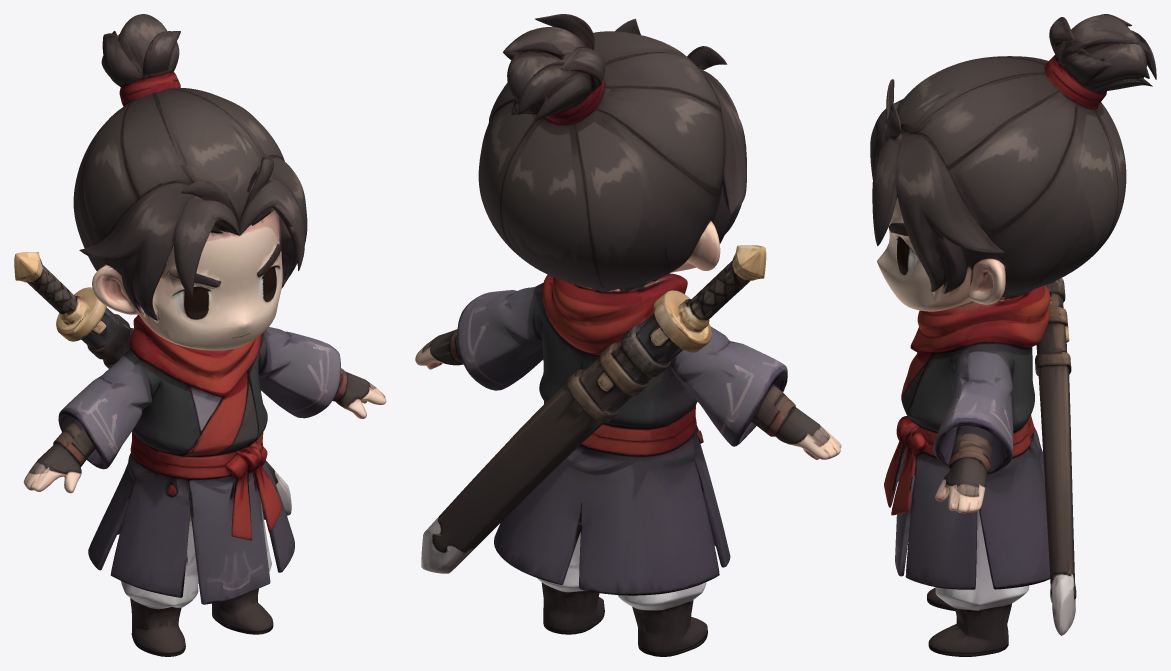
The model's file is tripo_convert_kiemhiep.glb.
3 renders of one model, left to right at view 1: azimuth 30°, elevation 25°; view 2: azimuth 150°, elevation 25°; view 3: azimuth 270°, elevation 25°, orthographic. The views are drawn at different scales.
Parts seen in each view (by area): view 1: tripo_node_9dc180d4-2a8c-46b8-aaf7-44141f36ad9f; view 2: tripo_node_9dc180d4-2a8c-46b8-aaf7-44141f36ad9f; view 3: tripo_node_9dc180d4-2a8c-46b8-aaf7-44141f36ad9f.
Boxes of the visible parts, x1,y1,x2,y2 form: tripo_node_9dc180d4-2a8c-46b8-aaf7-44141f36ad9f: (14,14,386,656); tripo_node_9dc180d4-2a8c-46b8-aaf7-44141f36ad9f: (415,14,841,656); tripo_node_9dc180d4-2a8c-46b8-aaf7-44141f36ad9f: (870,14,1156,656).
Bounding box in the file's own units: 0.6681 × 1 × 0.4271.
1 material, 1 textured.
